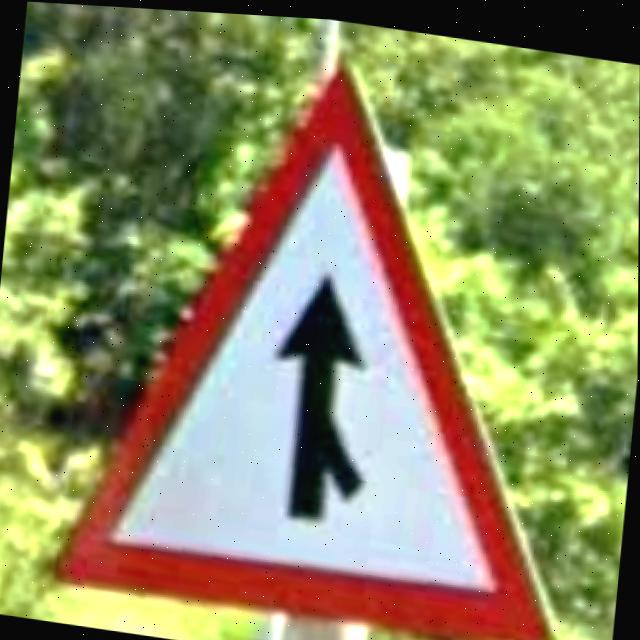rightmerge: (59, 67, 552, 639)
